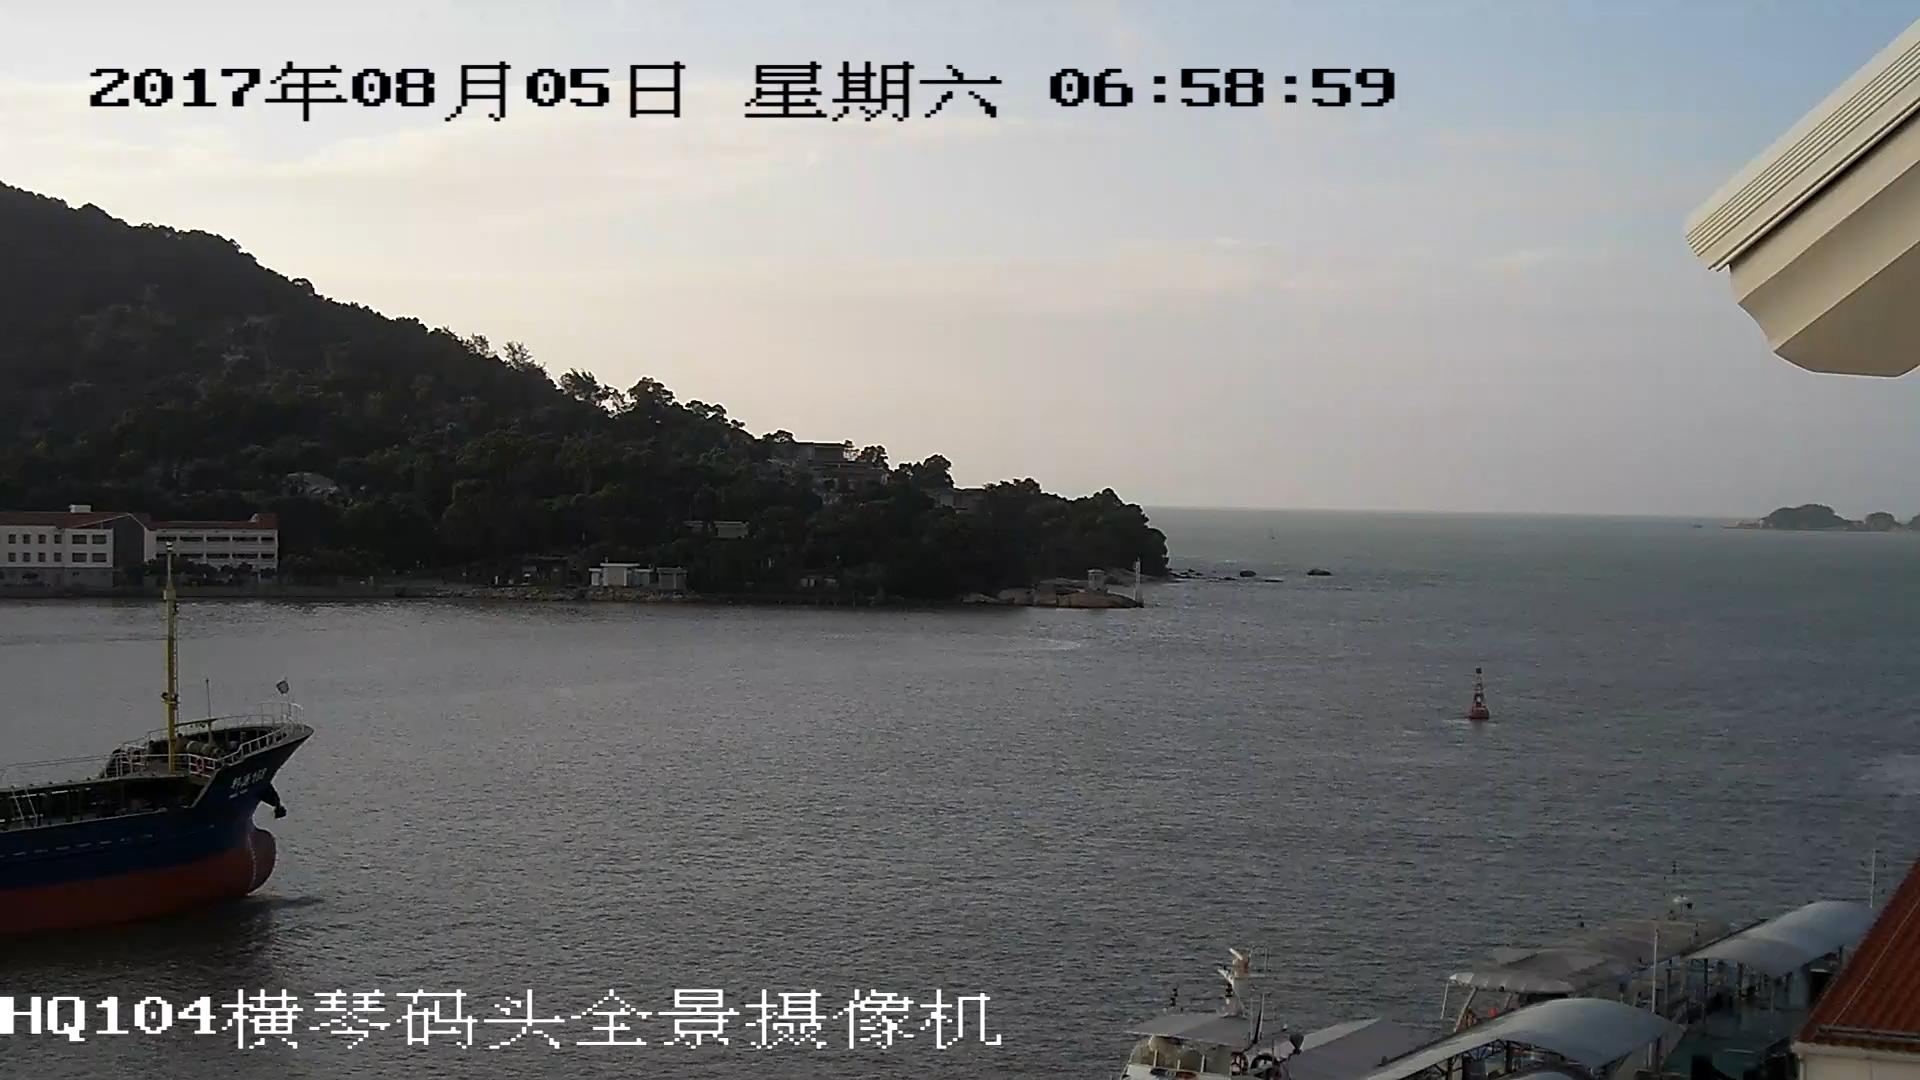general cargo ship: (1, 567, 325, 957)
